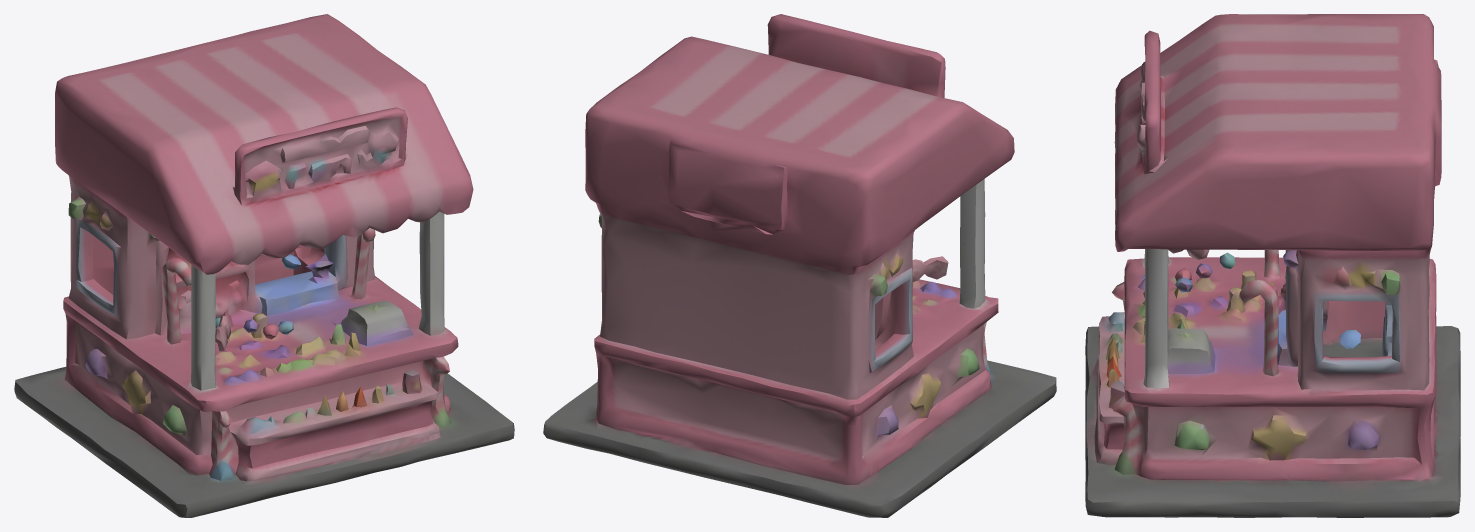
File: CandyShopStand.obj
3 renders of one model, left to right at view 1: azimuth 30°, elevation 25°; view 2: azimuth 150°, elevation 25°; view 3: azimuth 270°, elevation 25°, orthographic. The views are drawn at different scales.
Parts seen in each view (by area): view 1: input; view 2: input; view 3: input.
Part boxes in pixels (x1,y1,x2,y2): input: [14, 14, 514, 517]; input: [543, 14, 1056, 517]; input: [1085, 14, 1460, 517].
Size of the model in its own units: 9.57 by 9 by 8.52.
Materials: 1 (1 with a texture image).
